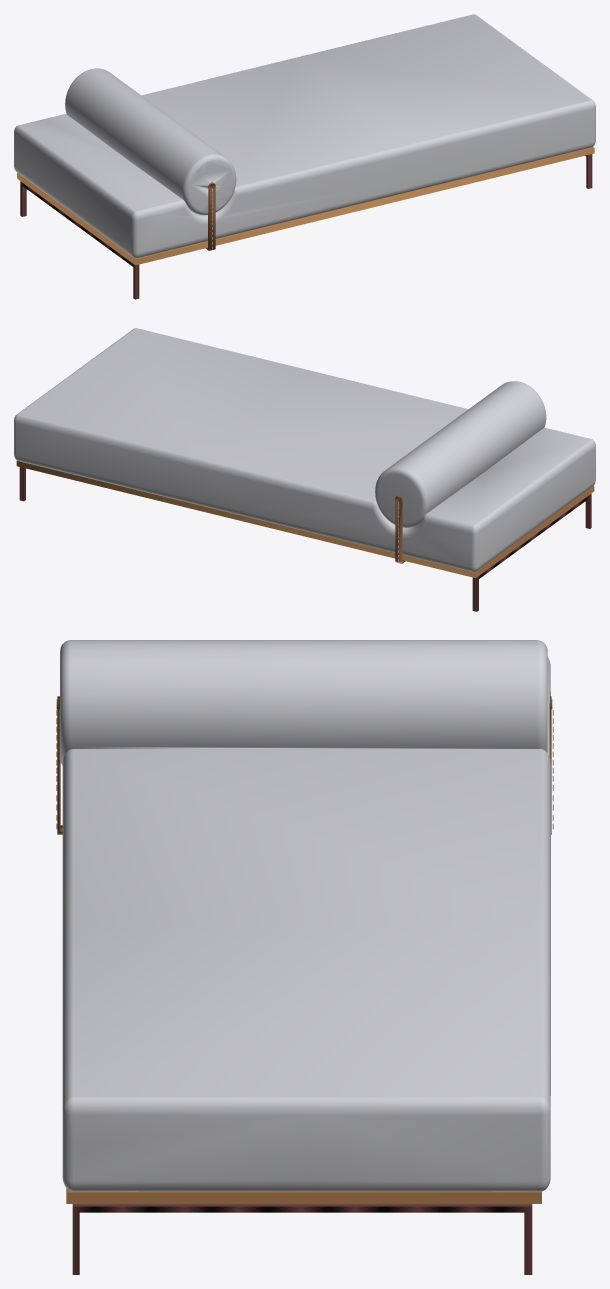
Rendered from sofa-modelo-diva-2.glb.
3 views of the same model, one above another, from view 1: azimuth 30°, elevation 25°; view 2: azimuth 150°, elevation 25°; view 3: azimuth 270°, elevation 25° (orthographic). The views are drawn at different scales.
Parts seen in each view (by area): view 1: Modelo diva 2; view 2: Modelo diva 2; view 3: Modelo diva 2.
Part boxes in pixels (bbox=[...]): Modelo diva 2: bbox=[14, 14, 595, 299]; Modelo diva 2: bbox=[14, 328, 595, 611]; Modelo diva 2: bbox=[56, 640, 553, 1274].
Bounding box in the file's own units: 2.04 × 0.5356 × 0.9488.
Materials: 8 (4 with a texture image).
